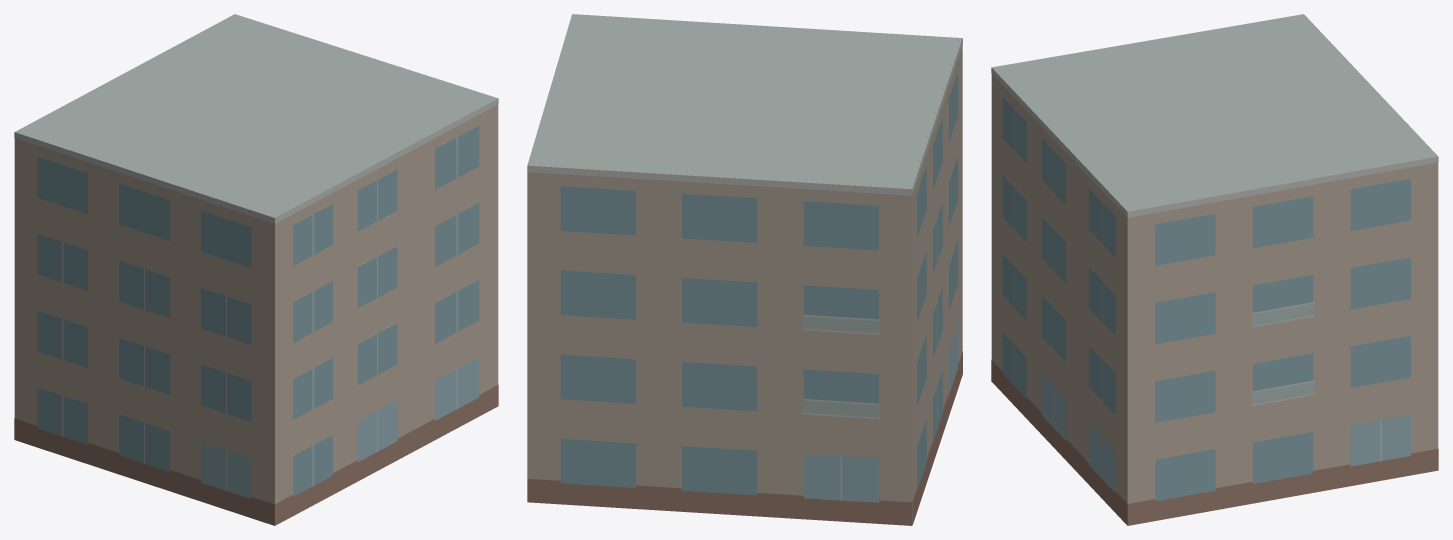
The model's file is survey-upis-32747404.glb.
The picture shows the model from 3 angles, left to right: view 1: azimuth 30°, elevation 25°; view 2: azimuth 150°, elevation 25°; view 3: azimuth 270°, elevation 25°; orthographic projection. The views are drawn at different scales.
Parts seen in each view (by area): view 1: survey-upis-32747404.tmp; view 2: survey-upis-32747404.tmp; view 3: survey-upis-32747404.tmp.
Part boxes in pixels (x1,y1,x2,y2): survey-upis-32747404.tmp: (14,14,498,525); survey-upis-32747404.tmp: (527,14,962,525); survey-upis-32747404.tmp: (991,14,1438,525).
Bounding box in the file's own units: 17.17 × 12.7 × 16.39.
